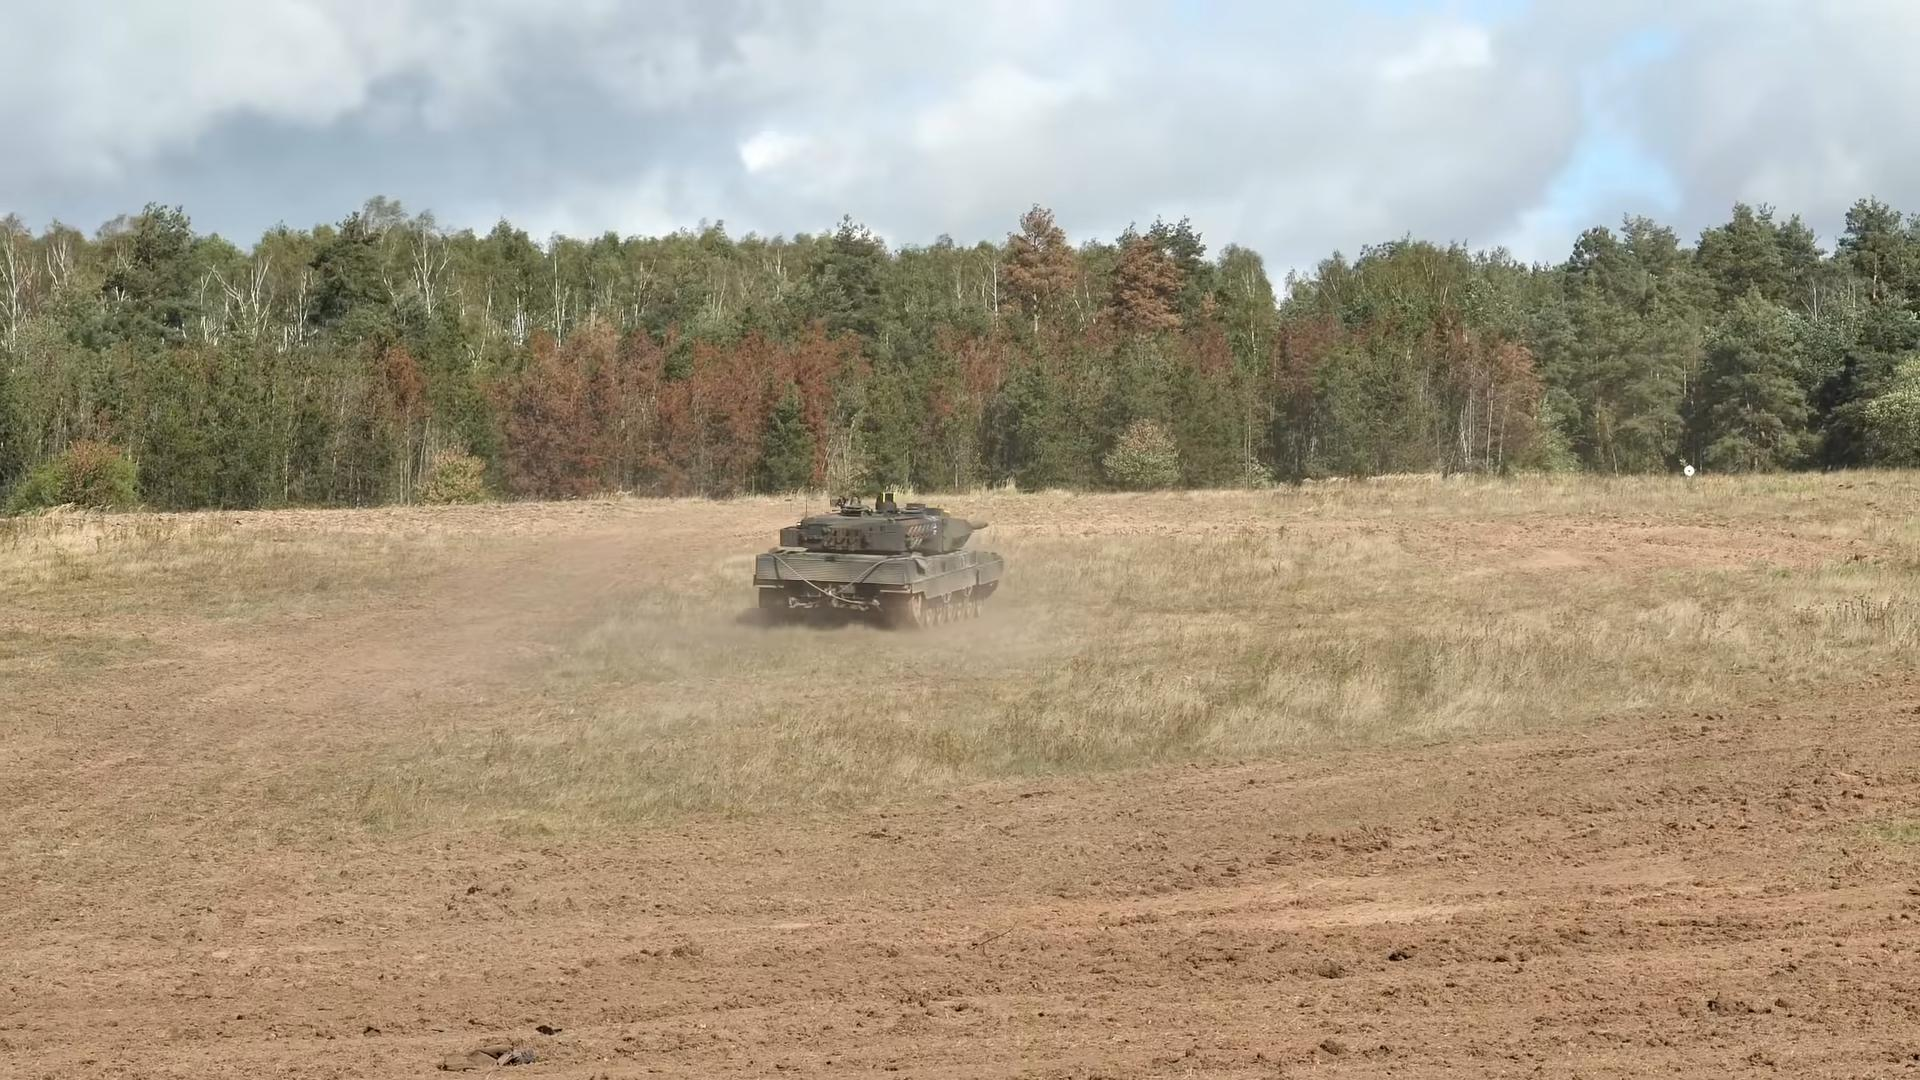tank: (756, 493, 1005, 630)
